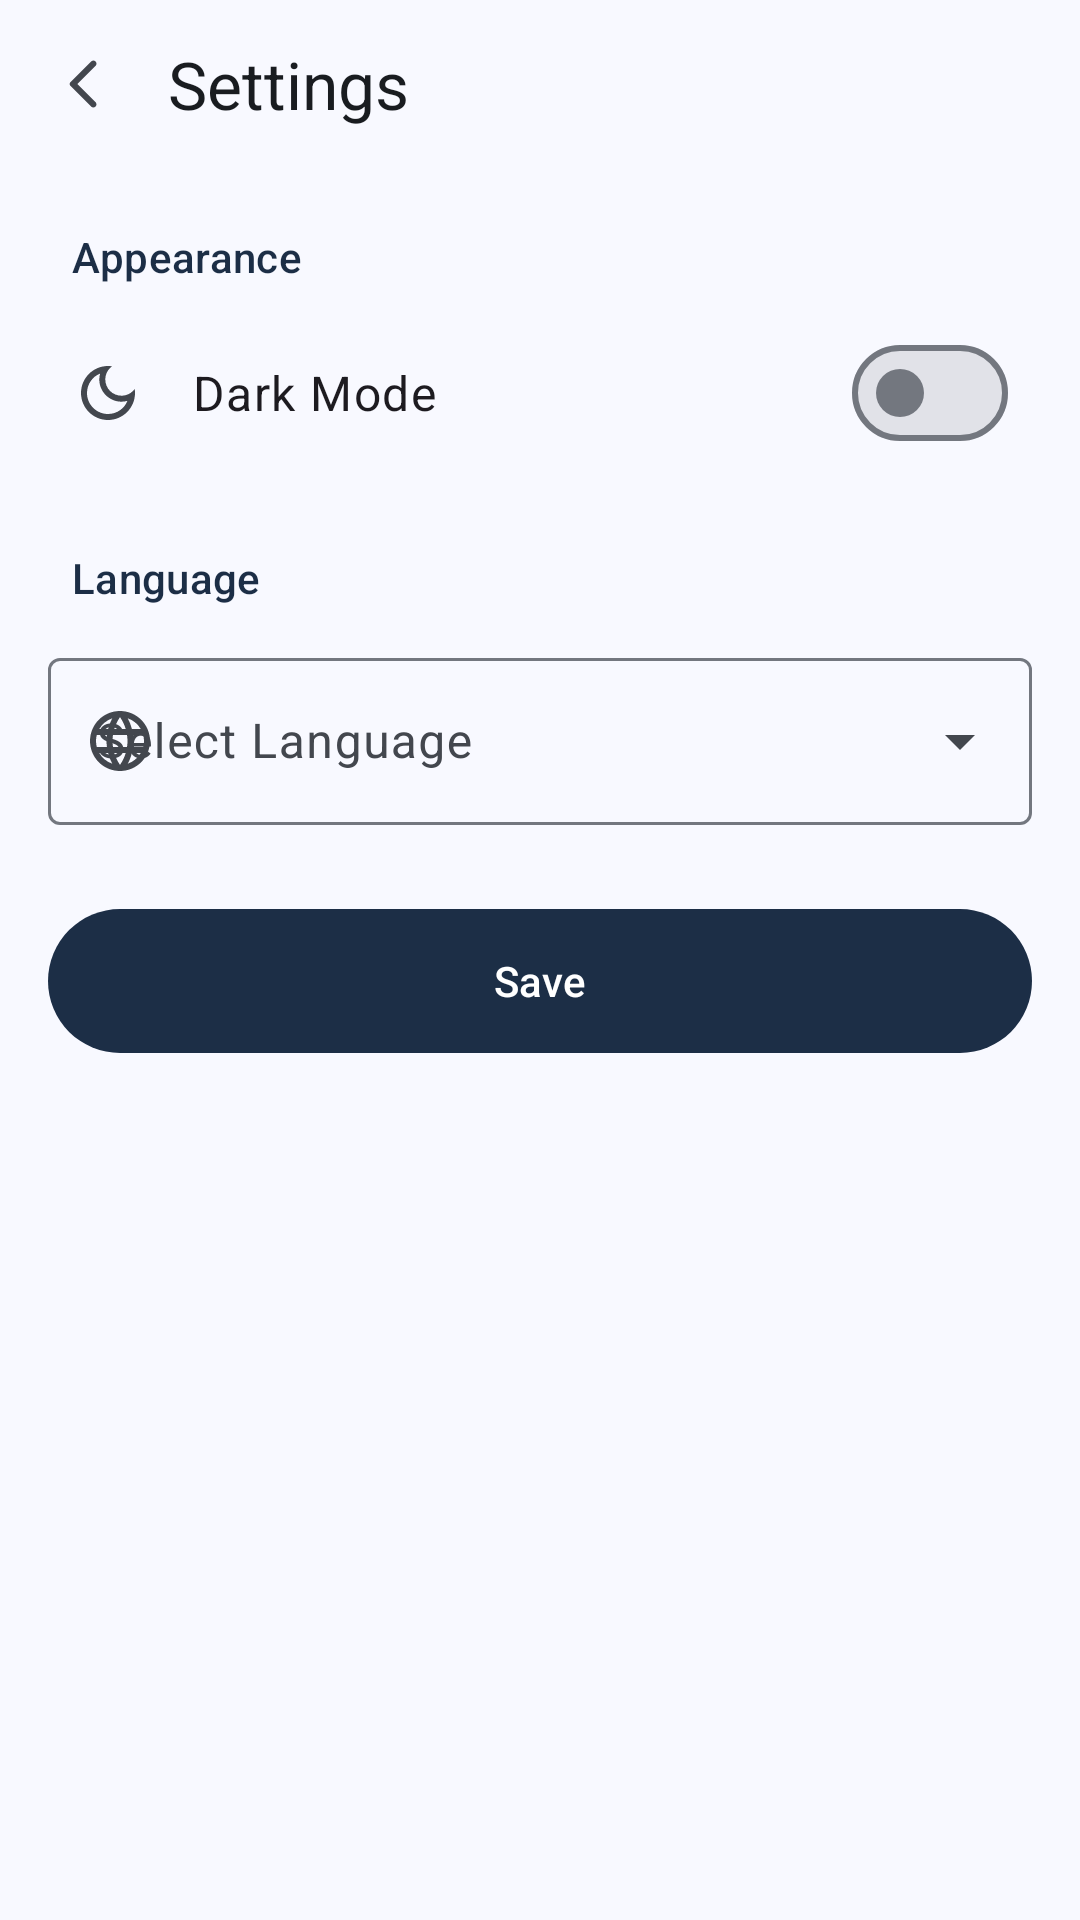

Icon click points for this 1080px×1920px phone screenshot, format [x,y]:
Back: [83,84]
